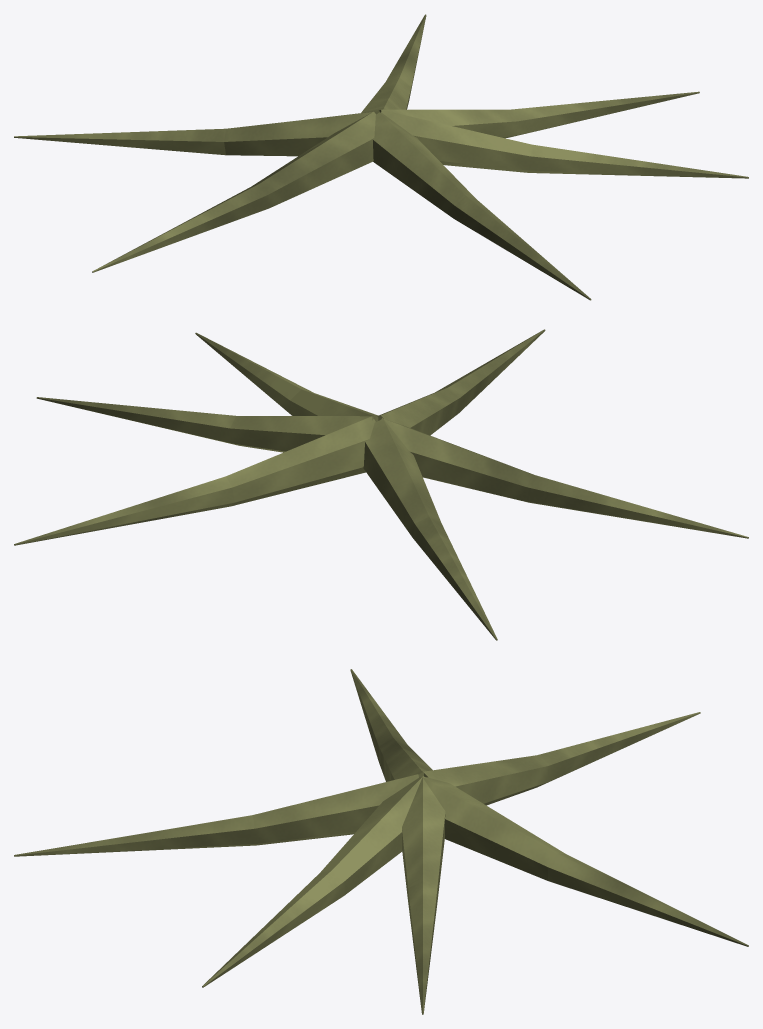
Rendered from Mycelium_Roots.glb.
3 renders of one model, top to bottom at view 1: azimuth 30°, elevation 25°; view 2: azimuth 150°, elevation 25°; view 3: azimuth 270°, elevation 25°, orthographic. The views are drawn at different scales.
Visible parts, largest first — view 1: Mycelium_Roots; view 2: Mycelium_Roots; view 3: Mycelium_Roots.
Part boxes in pixels (box(x1,y1,x2,y2)): Mycelium_Roots: box(14, 14, 748, 300); Mycelium_Roots: box(14, 329, 748, 640); Mycelium_Roots: box(14, 669, 748, 1014).
Size of the model in its own units: 1.69 by 0.1543 by 1.52.
Materials: 1 (1 with a texture image).
